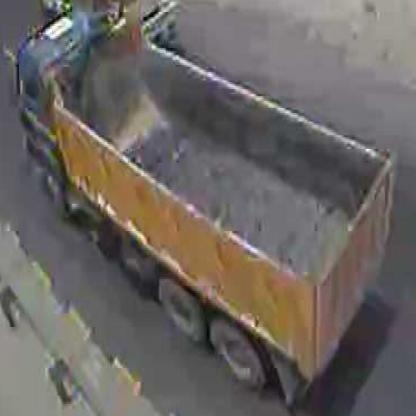truck: (15, 10, 391, 385)
